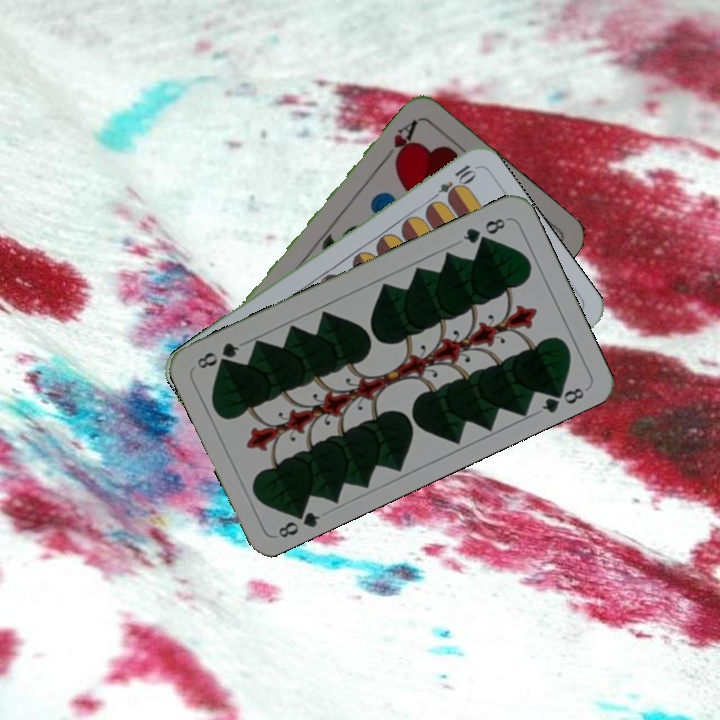E10: (425, 160, 478, 206)
G8: (274, 502, 323, 541), (459, 214, 508, 247)
HA: (379, 115, 421, 168)
